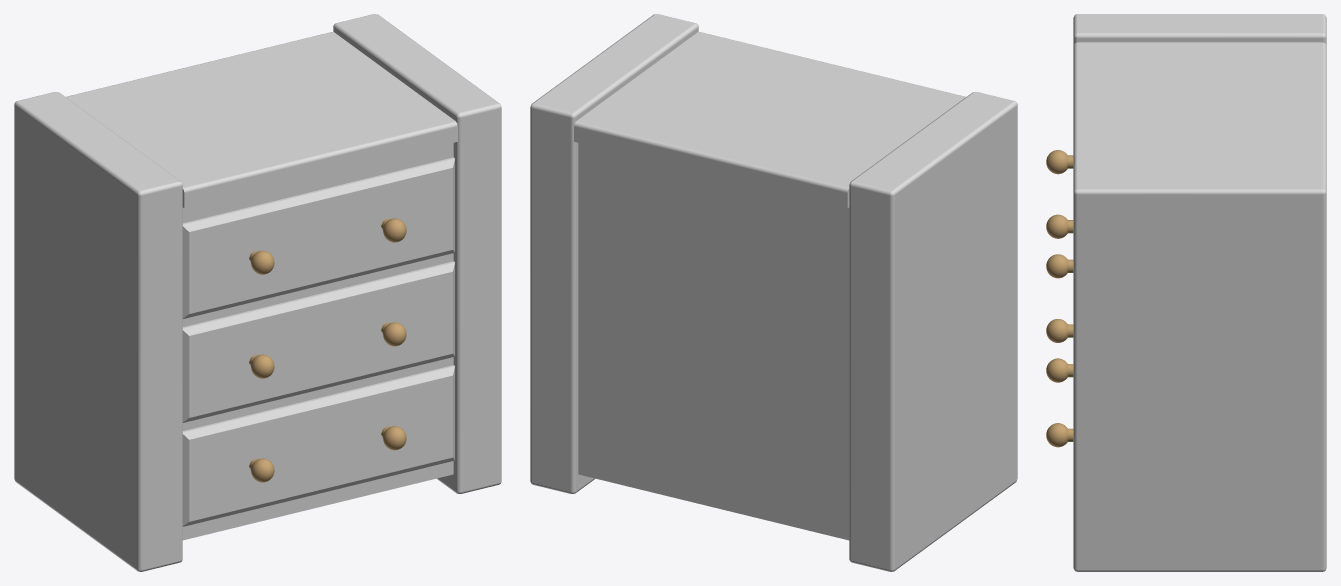
The model's file is Dresser.fbx.
The picture shows the model from 3 angles, left to right: view 1: azimuth 30°, elevation 25°; view 2: azimuth 150°, elevation 25°; view 3: azimuth 270°, elevation 25°; orthographic projection.
Visible parts, largest first — view 1: dresser, dresser-element; view 2: dresser; view 3: dresser, dresser-element.
Boxes of the visible parts, box(x1,y1,x2,y2) form: dresser: box(14, 14, 501, 571); dresser-element: box(182, 157, 454, 526); dresser: box(530, 14, 1017, 571); dresser: box(1073, 14, 1326, 571); dresser-element: box(1046, 150, 1073, 447).
Size of the model in its own units: 0.6644 by 1 by 1.
